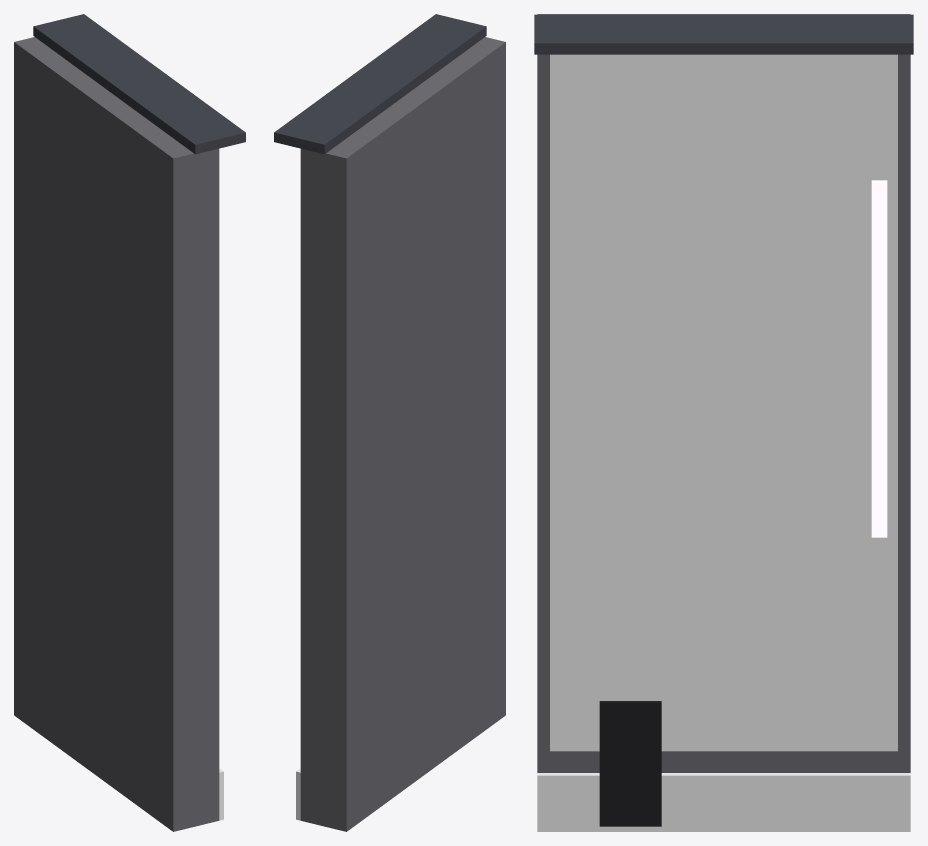
The model's file is SM_Building_B.fbx.
3 renders of one model, left to right at view 1: azimuth 30°, elevation 25°; view 2: azimuth 150°, elevation 25°; view 3: azimuth 270°, elevation 25°, orthographic. The views are drawn at different scales.
Parts seen in each view (by area): view 1: SM_Building_B; view 2: SM_Building_B; view 3: SM_Building_B.
Boxes of the visible parts, left/top/right/bottom form: SM_Building_B: left=14, top=14, right=245, bottom=831; SM_Building_B: left=274, top=14, right=505, bottom=831; SM_Building_B: left=534, top=14, right=913, bottom=831.
Bounding box in the file's own units: 155 × 1420 × 610.
